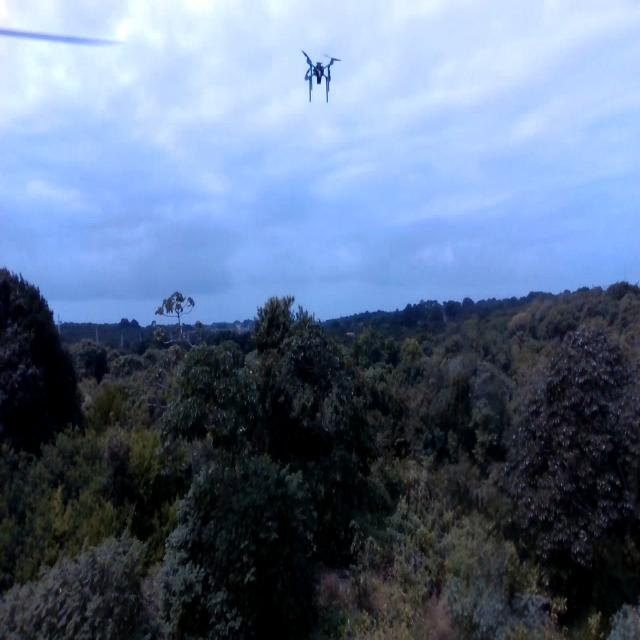-uav-: (292, 37, 347, 116)
